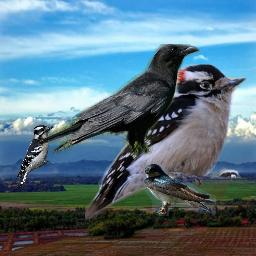Crow: (38, 44, 200, 158)
Swallow: (144, 164, 216, 216)
Woodpecker: (85, 64, 247, 221), (16, 124, 54, 189)
